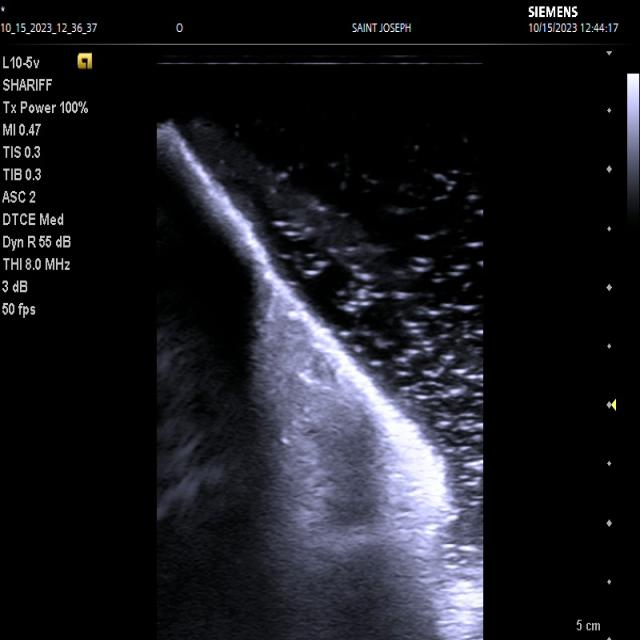tissue: (156, 124, 462, 640)
